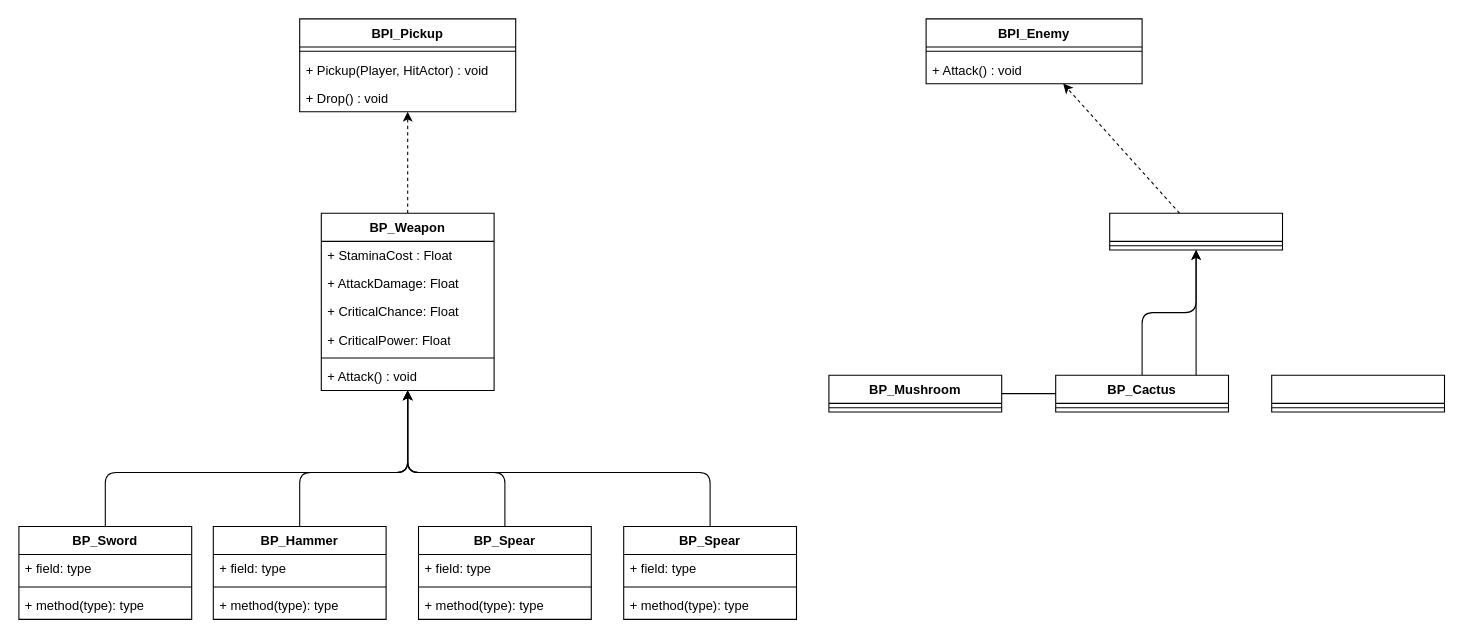
The diagram is 1463 pixels wide and 642 high, and some of its shapes have lost their labels. Here are the shapes that lost their labels. From the top down, the centre of each, then its label:
the point at 1195,231: BP_Enemy
the point at 1357,393: BP_Boss
